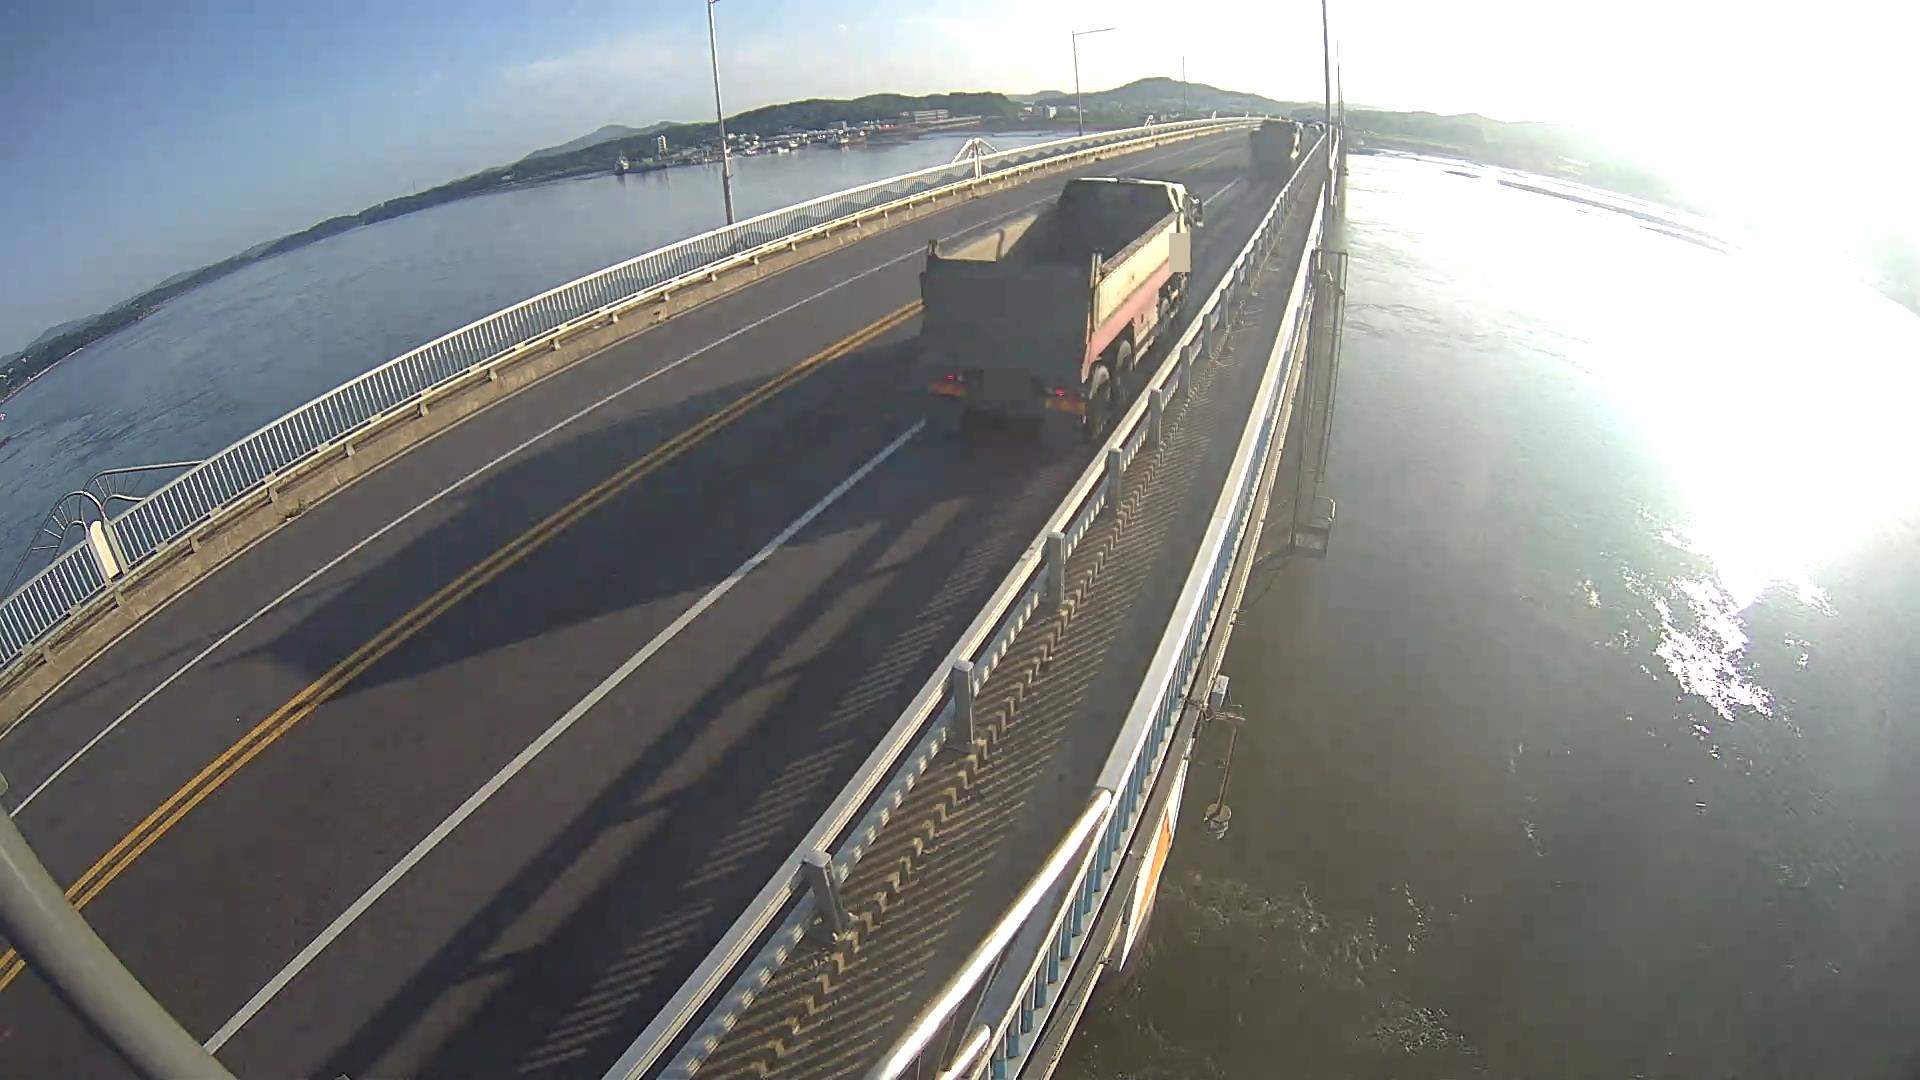정상차량: (919, 175, 1205, 452)
